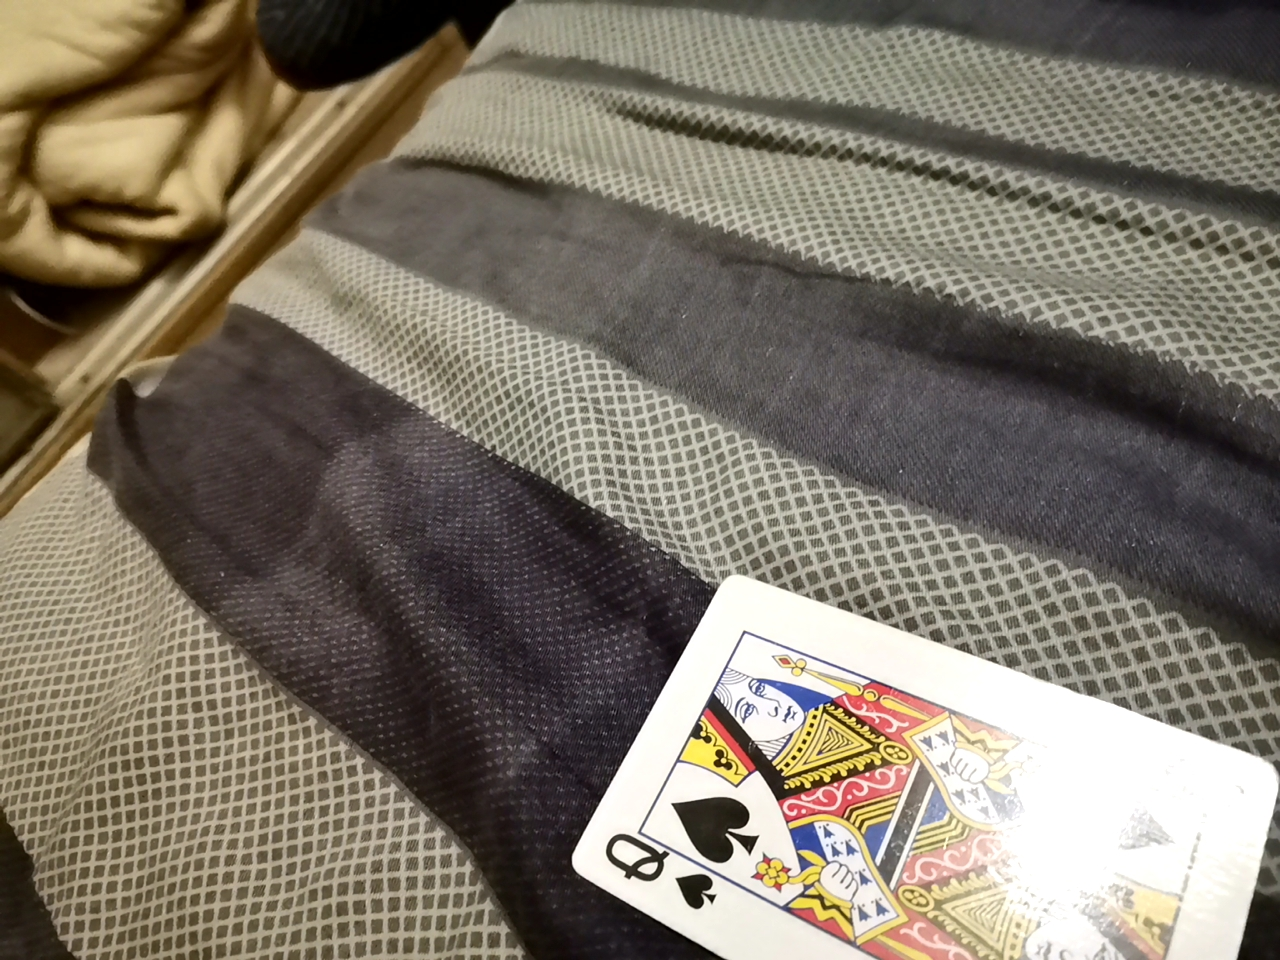ht q: (552, 562, 1274, 959)
